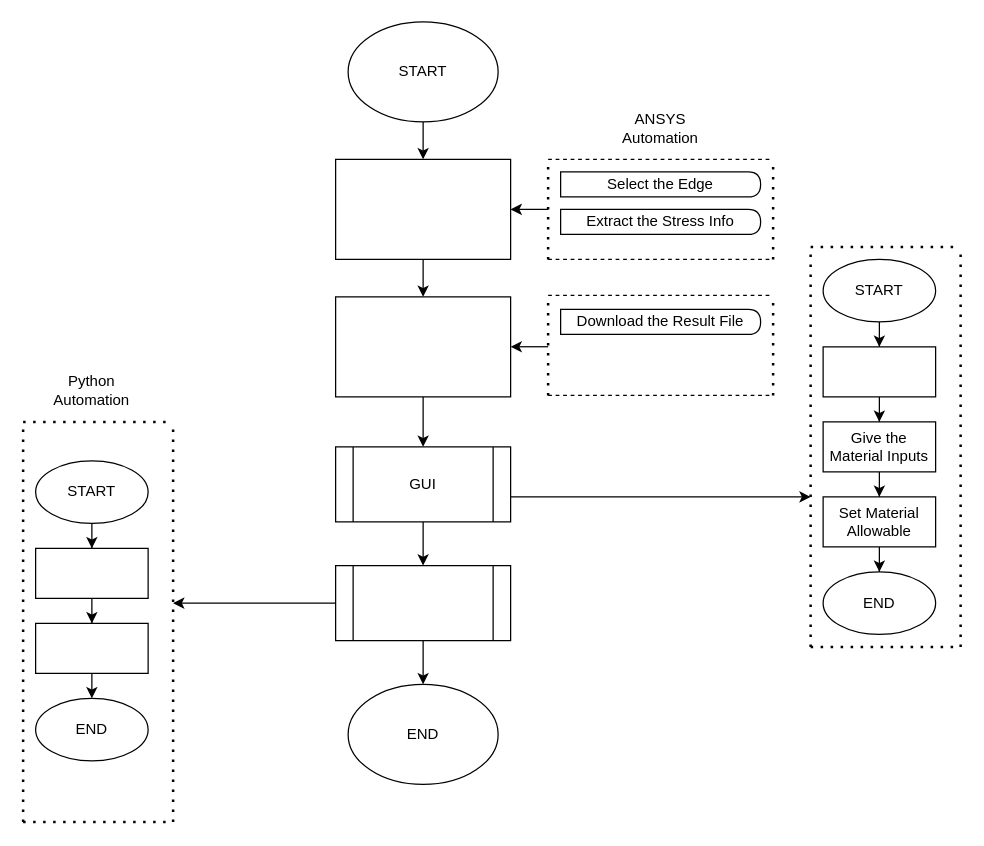
This 984x846 diagram has some shape labels left out. Each missing label, with the centre of its shape:
FEA: (422,346)
Iteration Process: (422,602)
Model Set-up: (422,208)
Python Script - Itertaions until mat. Allowable: (91,572)
Result File As PDF: (91,647)
Select the Weld Type: (879,371)
